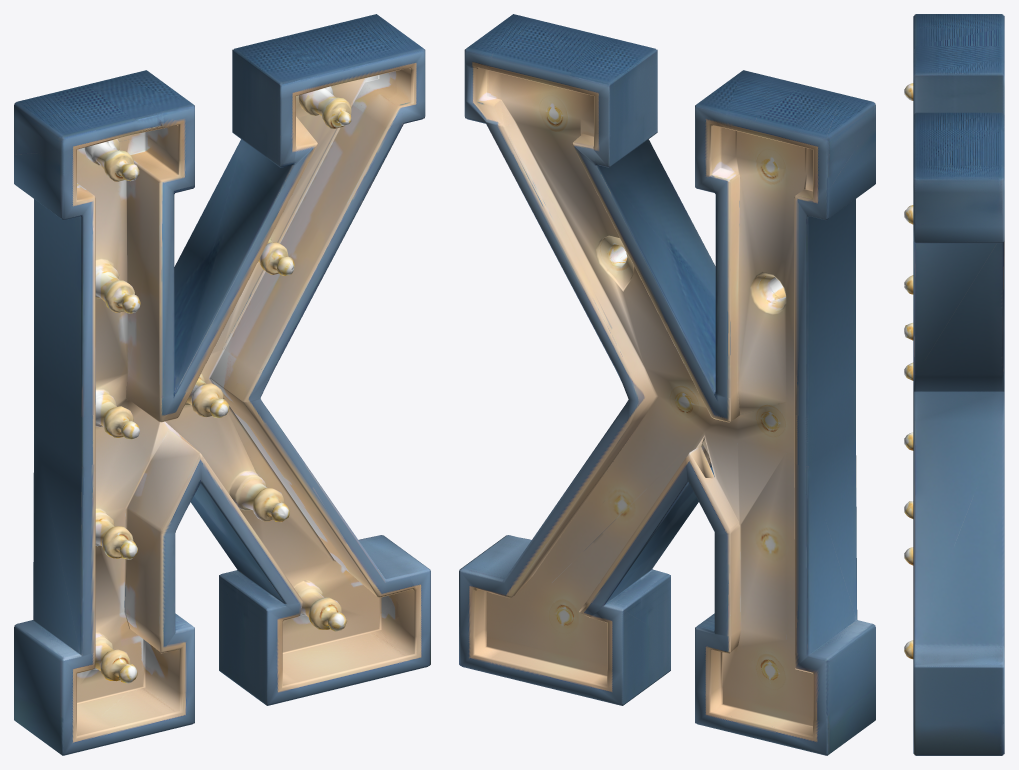
Rendered from Letter_k.glb.
3 renders of one model, left to right at view 1: azimuth 30°, elevation 25°; view 2: azimuth 150°, elevation 25°; view 3: azimuth 270°, elevation 25°, orthographic. The views are drawn at different scales.
Visible parts, largest first — view 1: Mesh_0; view 2: Mesh_0; view 3: Mesh_0.
Boxes of the visible parts, box(x1,y1,x2,y2) form: Mesh_0: box(14, 14, 430, 755); Mesh_0: box(459, 14, 875, 755); Mesh_0: box(904, 14, 1004, 755).
Size of the model in its own units: 0.5708 by 0.9144 by 0.1446.
1 material, 1 textured.
